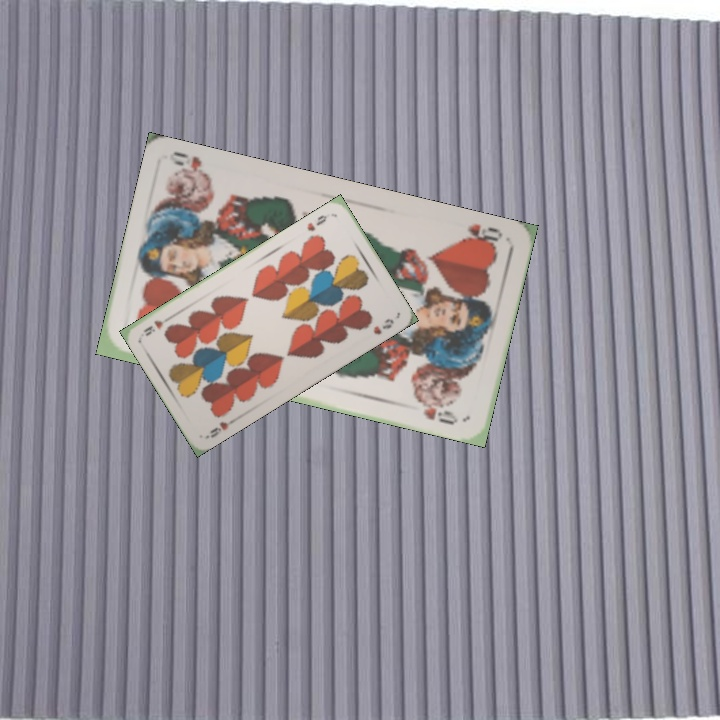H9: (202, 414, 239, 441), (303, 211, 330, 234)
HO: (458, 219, 505, 250)
